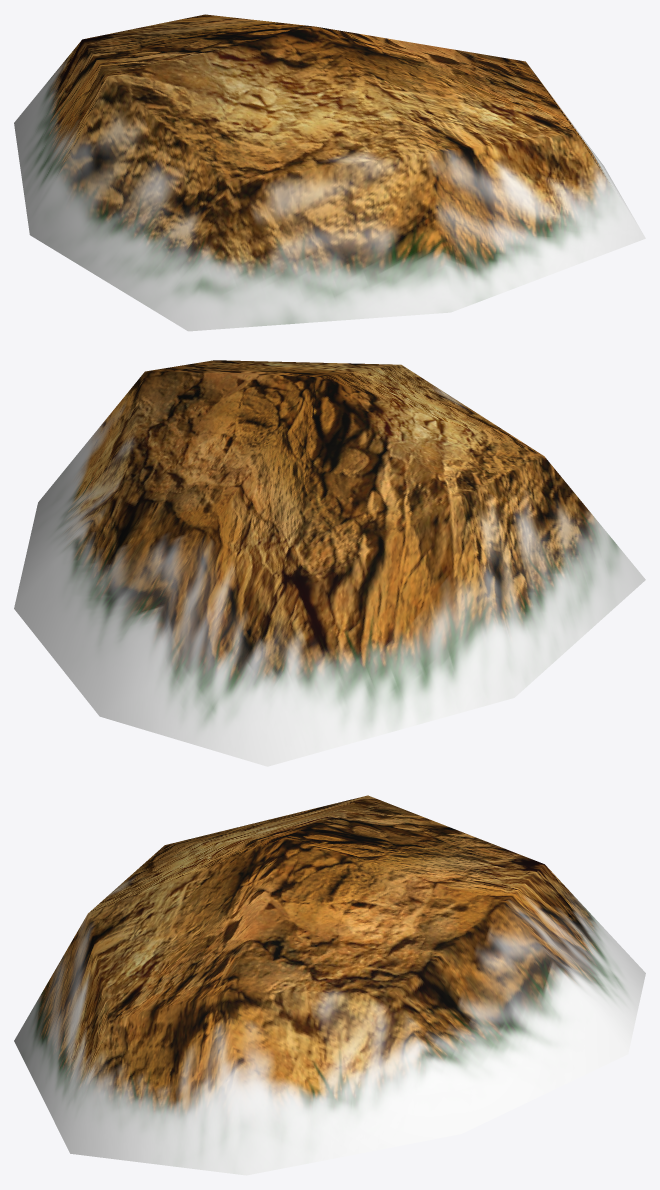
The model's file is Rock02.FBX.
3 renders of one model, top to bottom at view 1: azimuth 30°, elevation 25°; view 2: azimuth 150°, elevation 25°; view 3: azimuth 270°, elevation 25°, orthographic. The views are drawn at different scales.
Visible parts, largest first — view 1: Box01; view 2: Box01; view 3: Box01.
Part boxes in pixels (x1=…): Box01: x1=14, y1=14, x2=645, y2=331; Box01: x1=14, y1=360, x2=645, y2=766; Box01: x1=14, y1=795, x2=645, y2=1175.
Bounding box in the file's own units: 72.75 × 26.62 × 76.29.
Materials: 1 (1 with a texture image).
